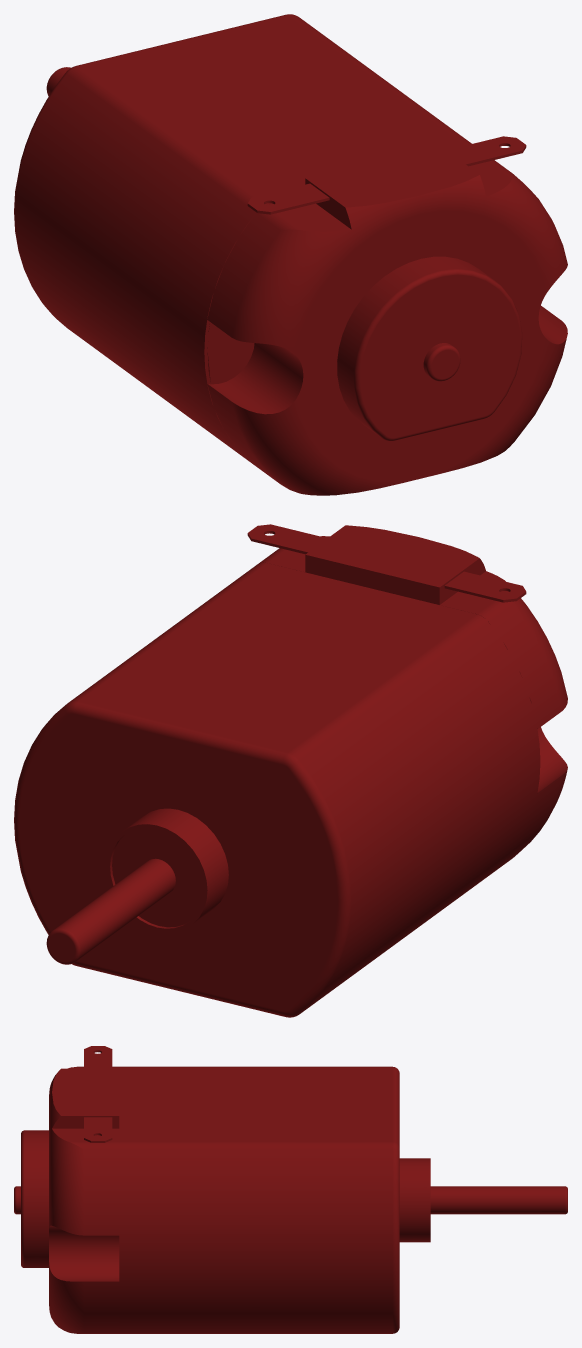
The model's file is Motor DC v0.fbx.
3 views of the same model, one above another, from view 1: azimuth 30°, elevation 25°; view 2: azimuth 150°, elevation 25°; view 3: azimuth 270°, elevation 25° (orthographic). The views are drawn at different scales.
Visible parts, largest first — view 1: Body1; view 2: Body1; view 3: Body1.
Part boxes in pixels (<box>): Body1: <box>14,14,567,495</box>; Body1: <box>14,524,567,1017</box>; Body1: <box>14,1046,567,1333</box>.
Size of the model in its own units: 20 by 16 by 39.5.
